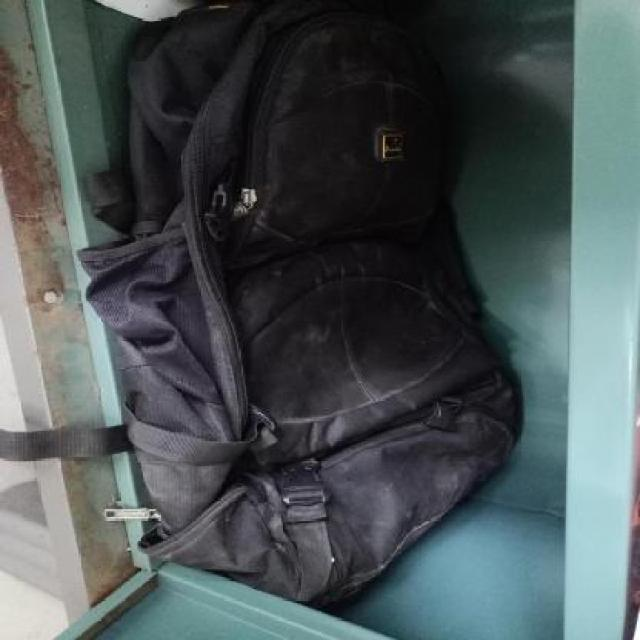backpack: (72, 0, 531, 620)
